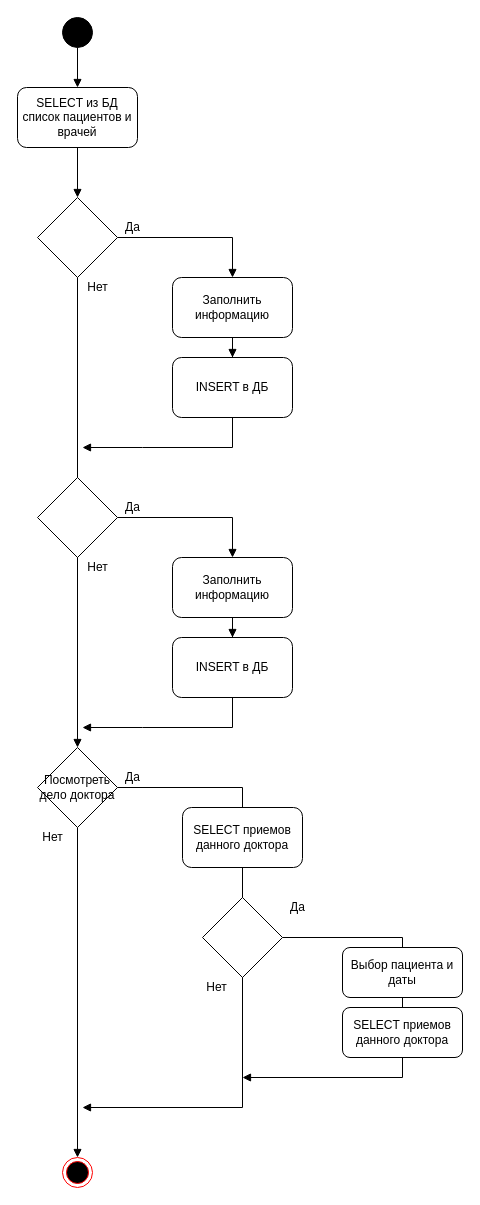
Some shapes in this 480 by 1205 pixel diagram are drawn without their labels. The centre of each missing label's shape, as x and y in pixels:
"Добавить доктора" goes at point (77, 237).
"Добавить пациента" goes at point (77, 517).
"Назначить прием" goes at point (242, 937).
